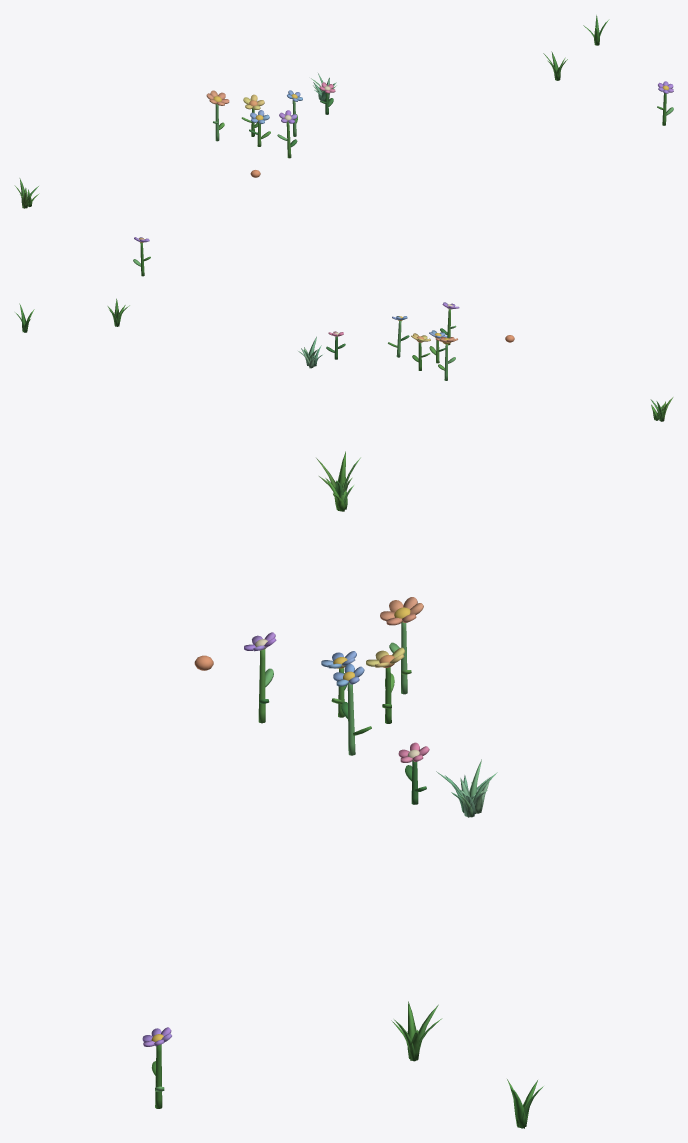
The model's file is W4_FloraRing_10_8.fbx.
The picture shows the model from 3 angles, top to bottom: view 1: azimuth 30°, elevation 25°; view 2: azimuth 150°, elevation 25°; view 3: azimuth 270°, elevation 25°; orthographic projection. The views are drawn at different scales.
Parts seen in each view (by area): view 1: W4_FloraRing_10_8; view 2: W4_FloraRing_10_8; view 3: W4_FloraRing_10_8.
Part boxes in pixels (left/top/right/bottom): W4_FloraRing_10_8: left=14, top=15, right=673, bottom=208; W4_FloraRing_10_8: left=15, top=237, right=673, bottom=421; W4_FloraRing_10_8: left=142, top=451, right=543, bottom=1128.
Bounding box in the file's own units: 3.31 × 0.386 × 0.9485.
